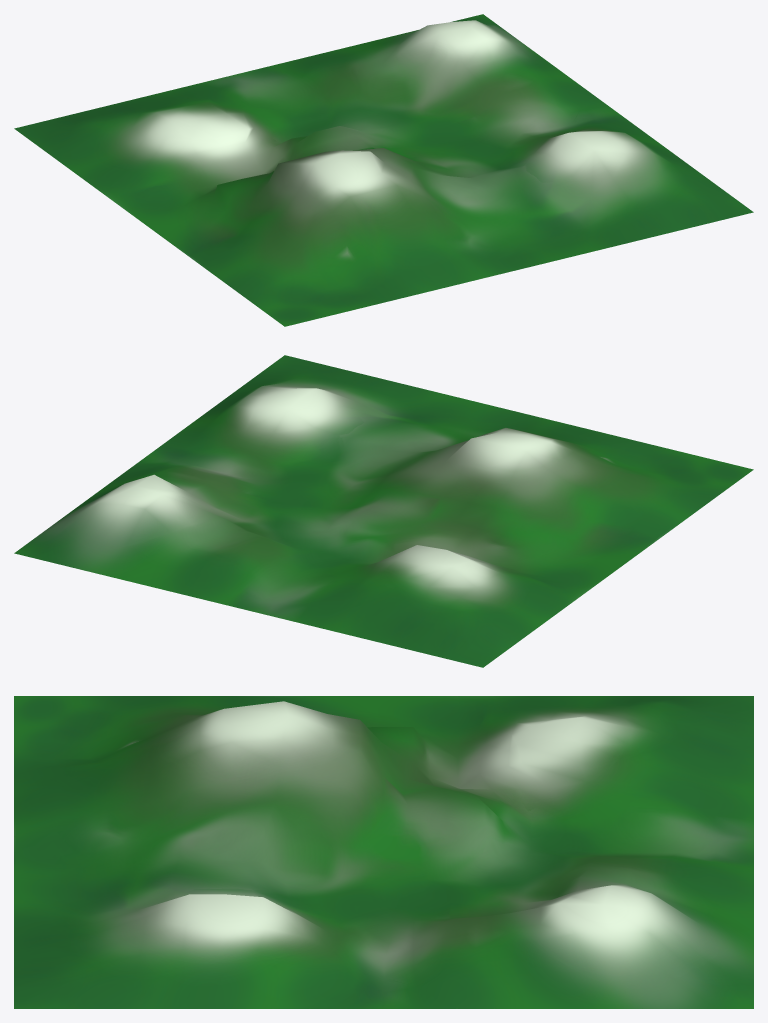
File: hills.obj
3 views of the same model, one above another, from view 1: azimuth 30°, elevation 25°; view 2: azimuth 150°, elevation 25°; view 3: azimuth 270°, elevation 25° (orthographic). The views are drawn at different scales.
Visible parts, largest first — view 1: Grid_Grid.001; view 2: Grid_Grid.001; view 3: Grid_Grid.001.
Part boxes in pixels (x1,y1,x2,y2): Grid_Grid.001: [14, 14, 753, 326]; Grid_Grid.001: [14, 355, 753, 667]; Grid_Grid.001: [14, 696, 753, 1008].
Size of the model in its own units: 128 by 15.97 by 128.
1 material, 1 textured.
